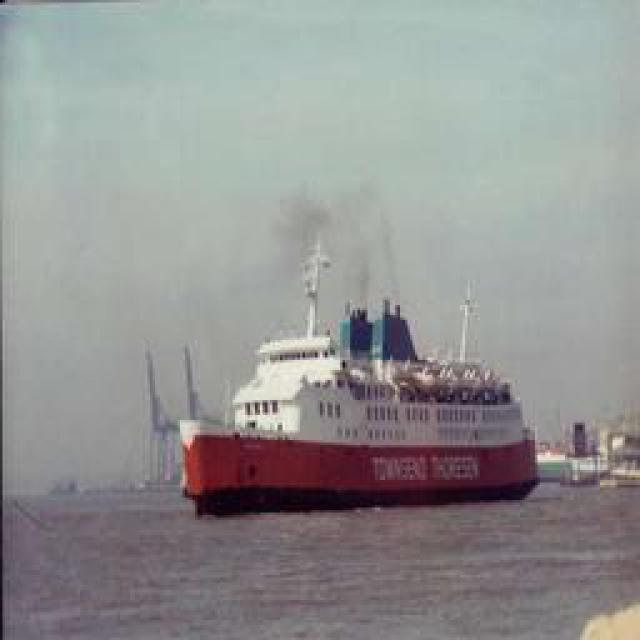Ship: (182, 227, 545, 515)
